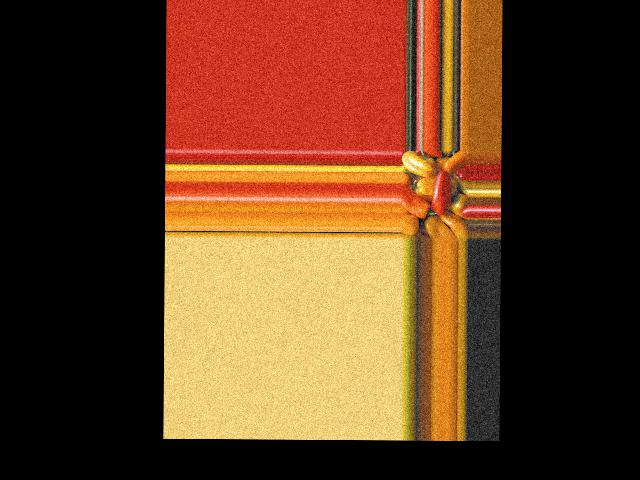bell_pepper: (402, 150, 433, 178)
